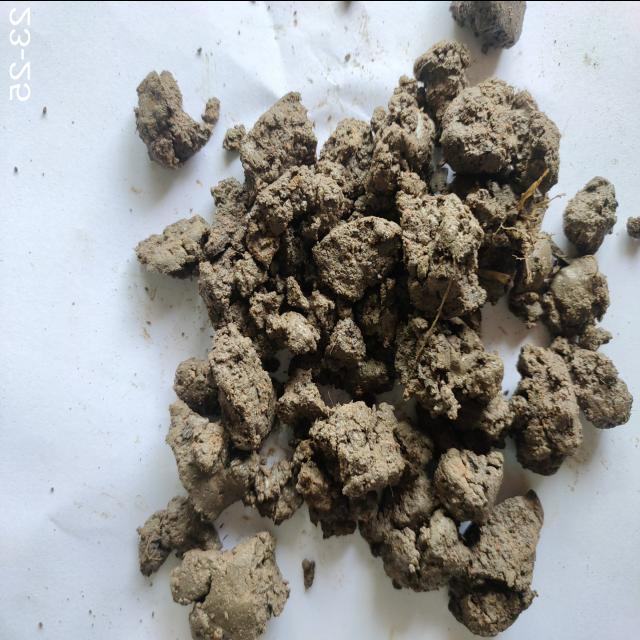soil: (260, 177, 530, 449)
